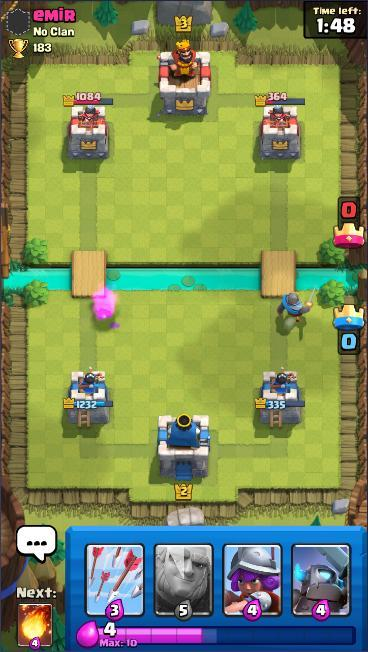ally_knight: (275, 285, 320, 325)
